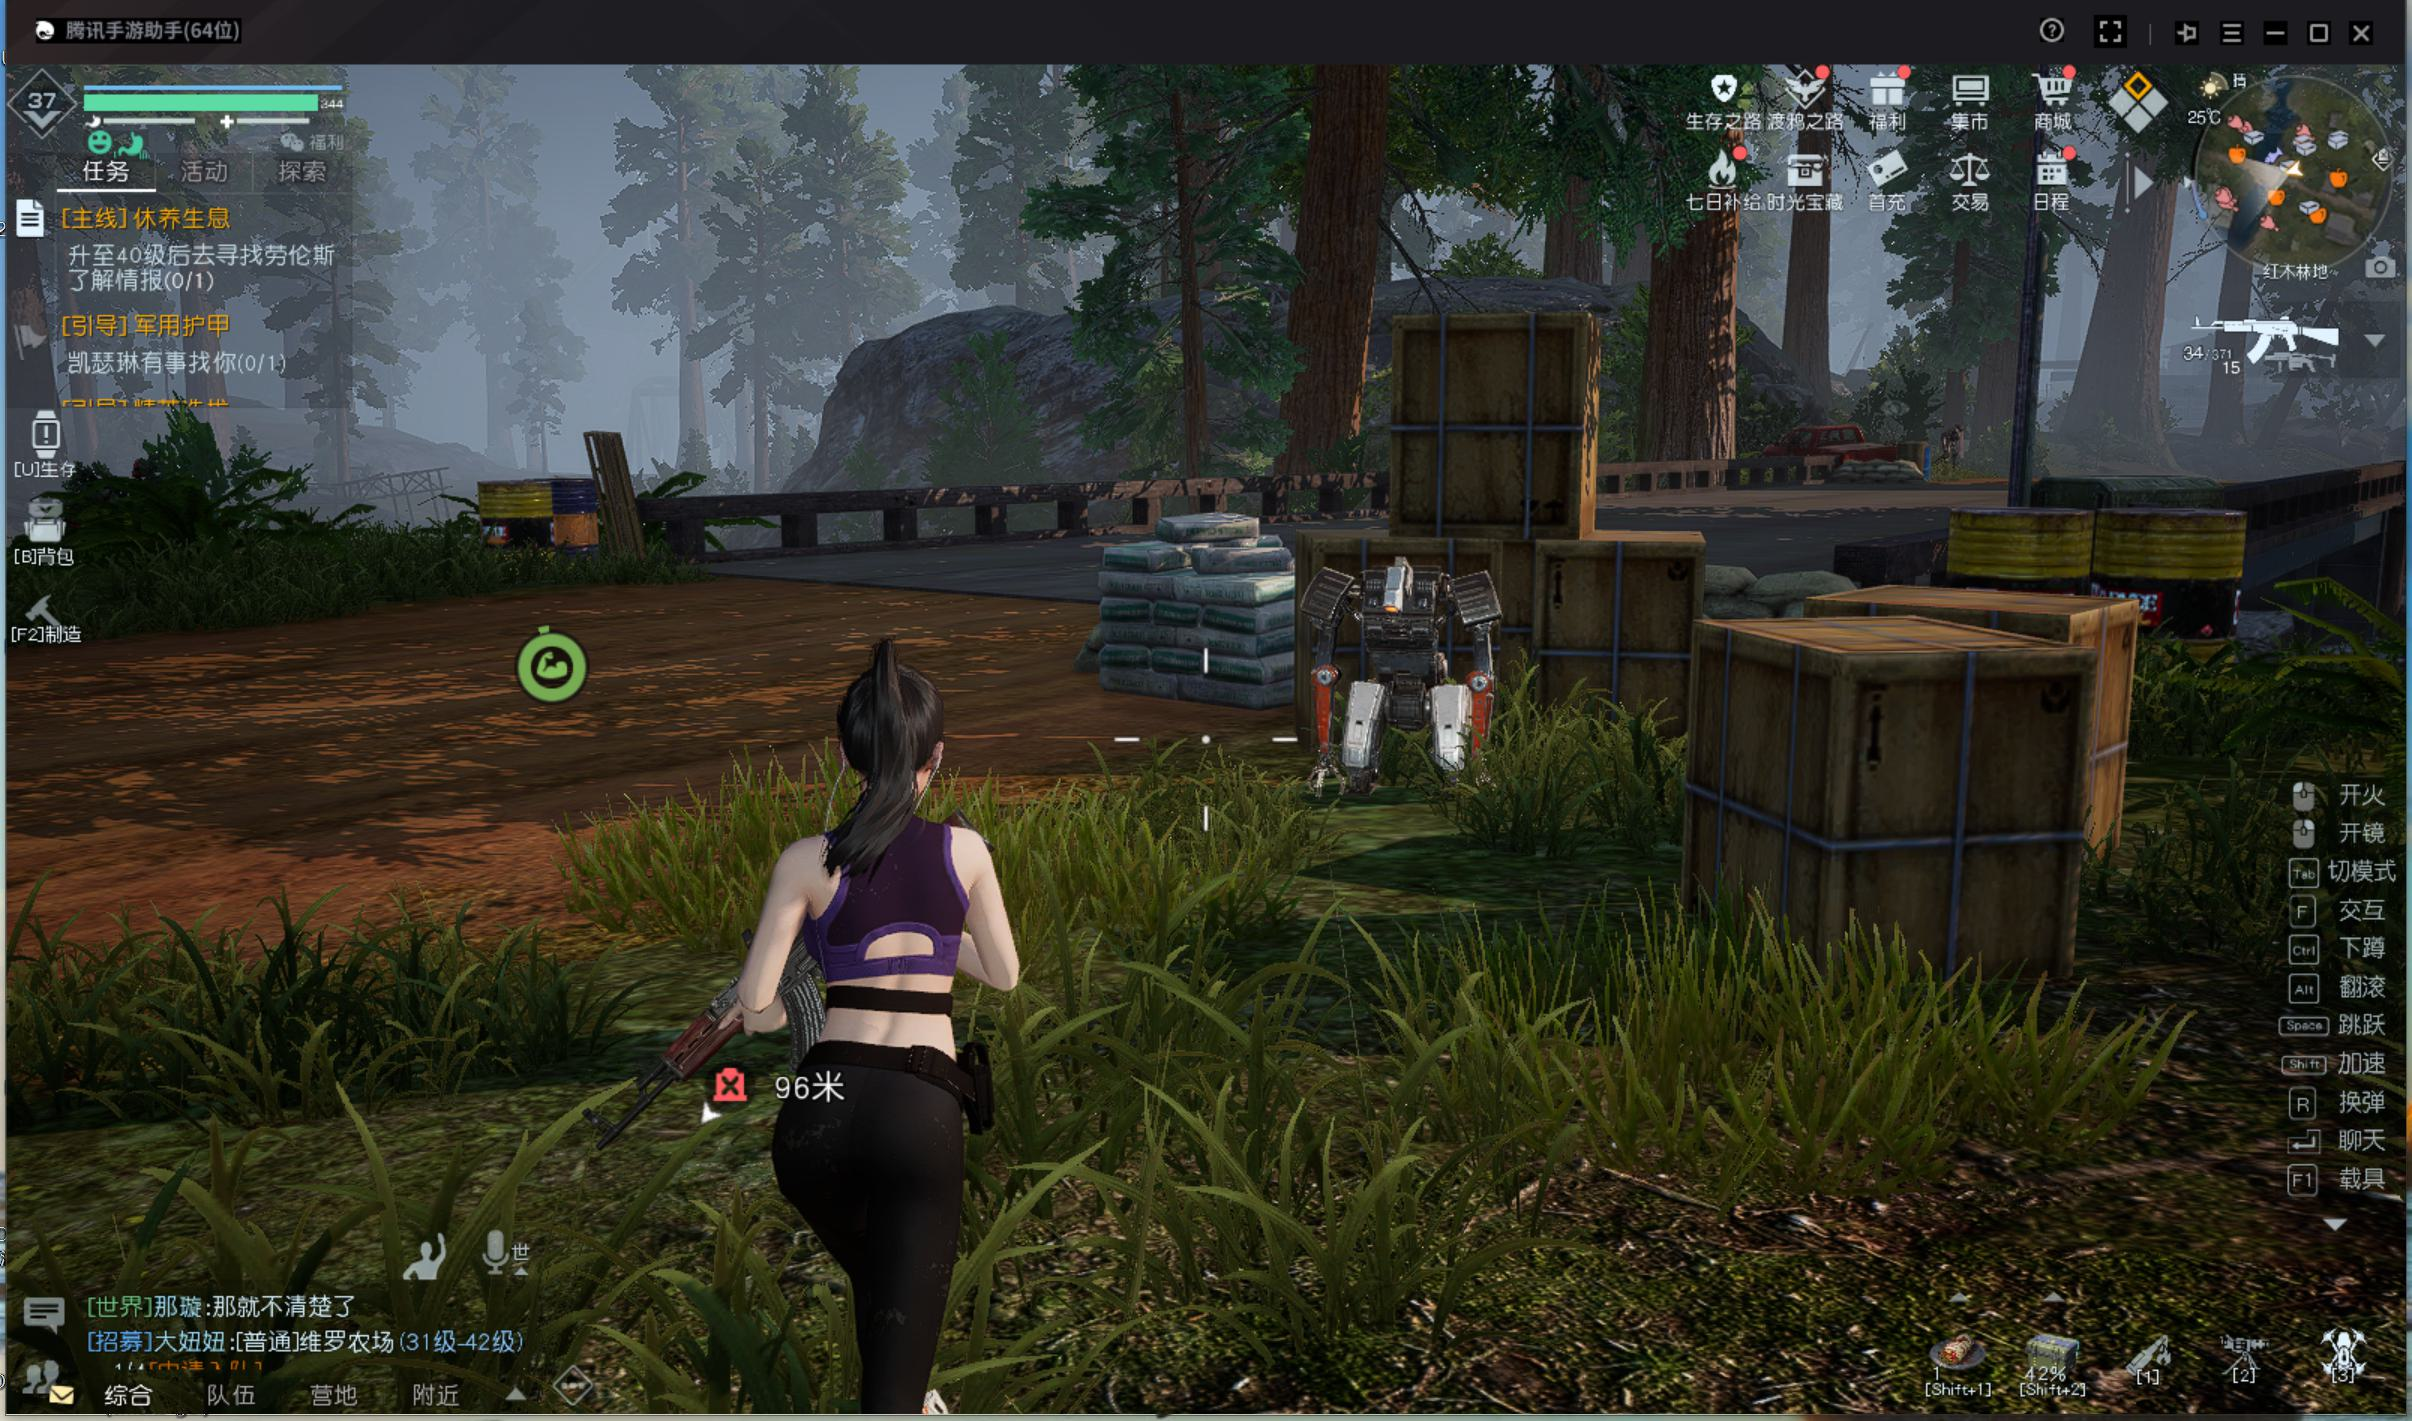tree: (1265, 195, 1375, 474), (1634, 215, 1747, 442), (1176, 264, 1220, 472)
